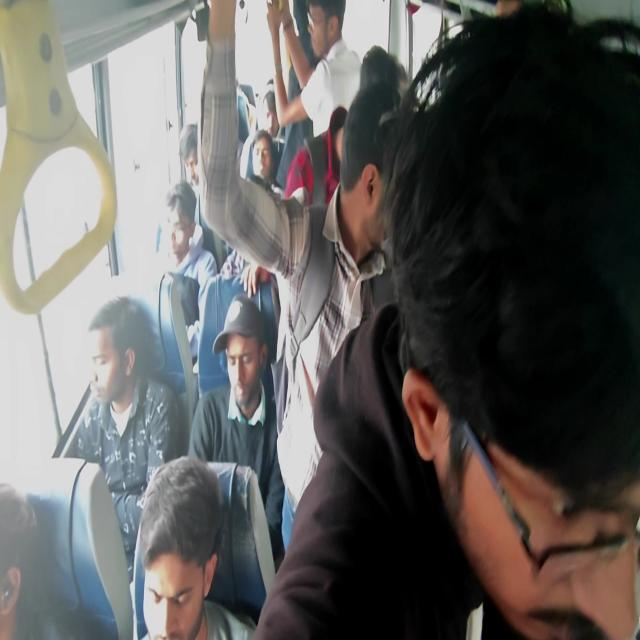person: (252, 5, 640, 638), (199, 0, 407, 554), (63, 294, 183, 582), (187, 292, 285, 564), (134, 455, 257, 639), (266, 1, 362, 194), (159, 179, 218, 363), (284, 105, 347, 206), (0, 482, 39, 639), (359, 44, 408, 98), (251, 129, 283, 193)
